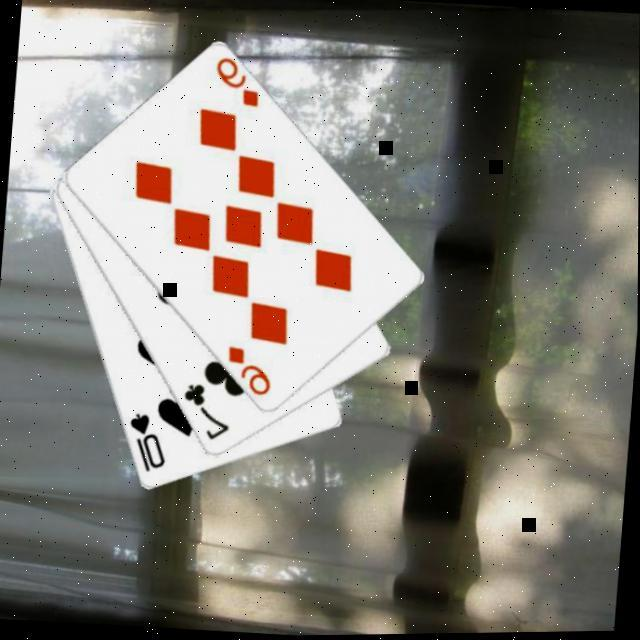10S: (122, 407, 170, 476)
7C: (177, 377, 234, 443)
9D: (220, 341, 276, 399), (209, 52, 264, 110)
